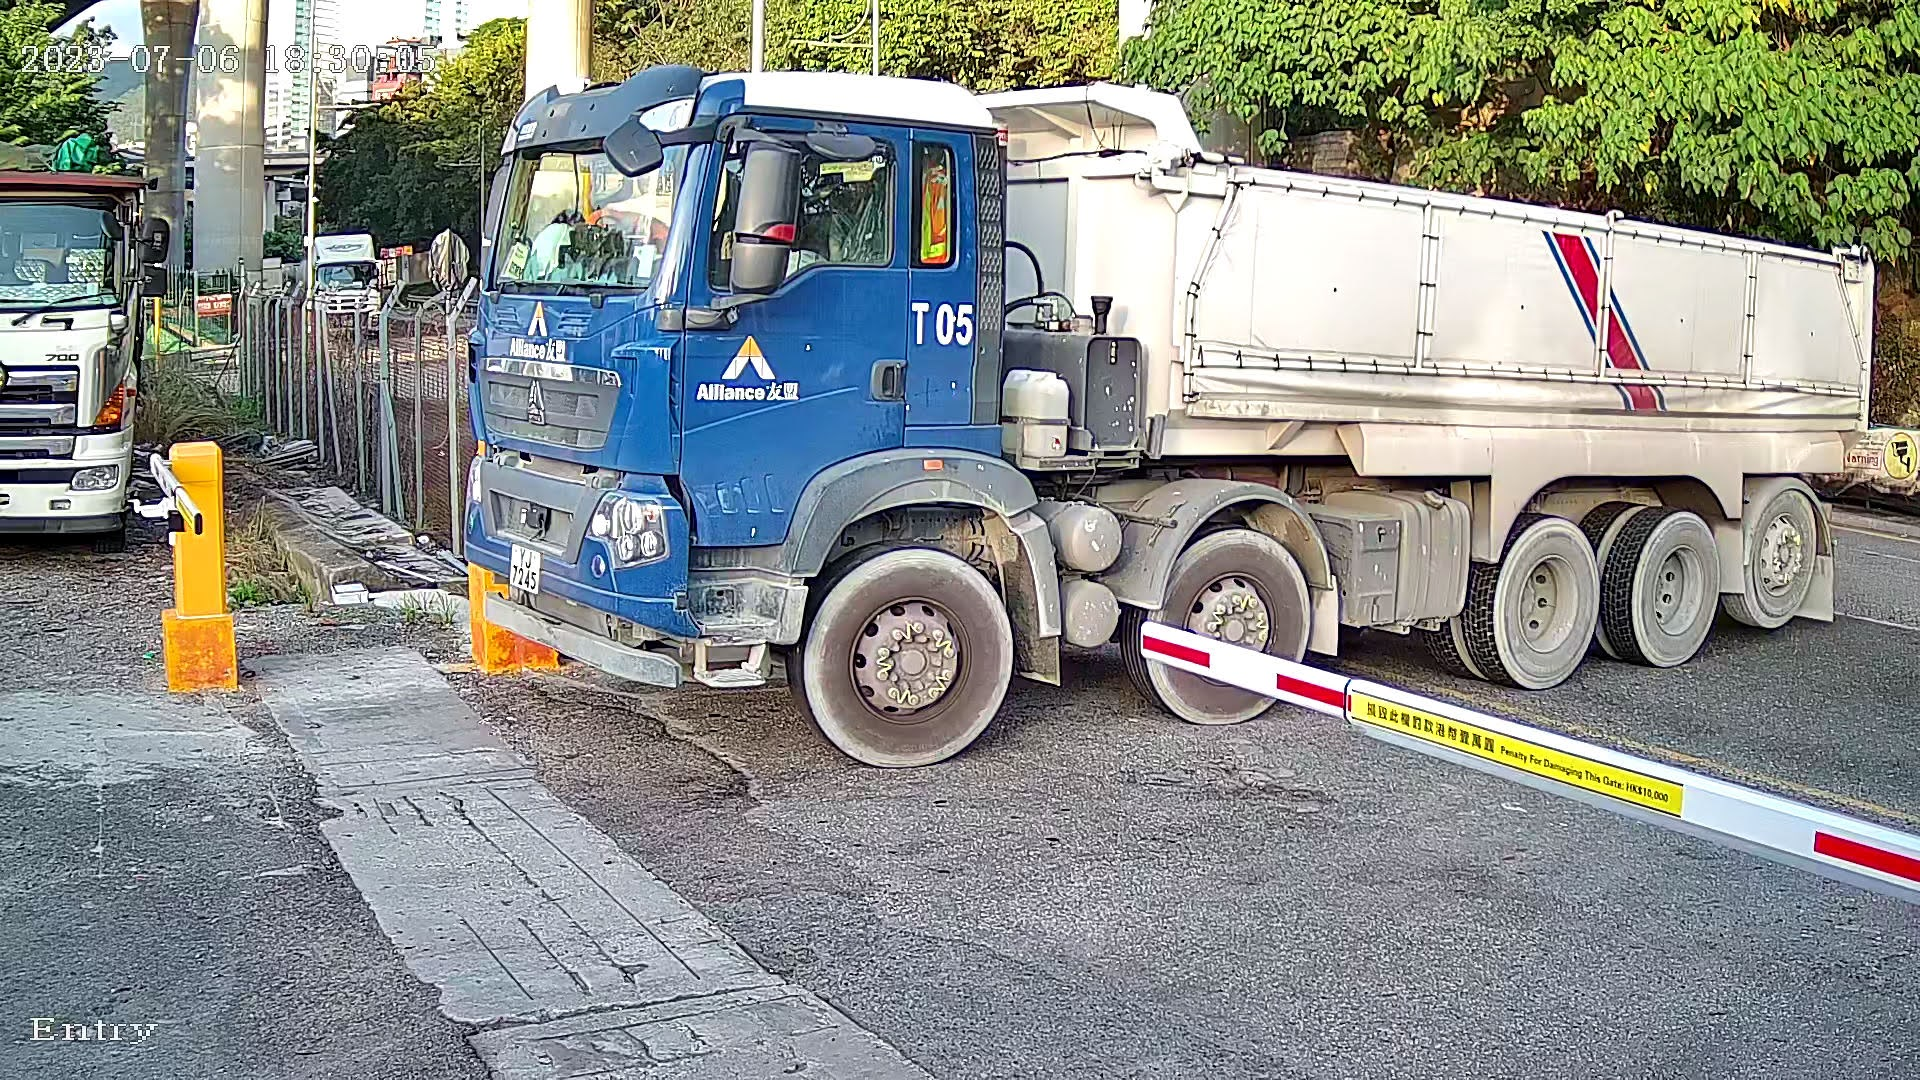truck: (407, 55, 1920, 789)
